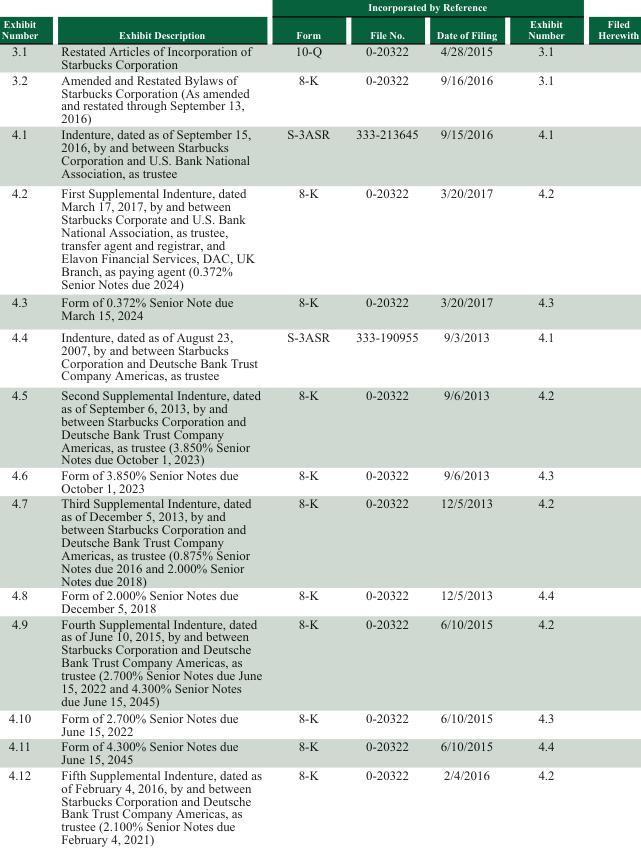table: (0, 1, 638, 846)
table column: (48, 1, 273, 846), (426, 1, 511, 846), (342, 1, 426, 846), (273, 1, 342, 846), (511, 1, 580, 846), (580, 1, 638, 846), (0, 1, 48, 846)
table column header: (0, 1, 638, 41)
table row: (0, 182, 638, 292), (0, 615, 638, 709), (0, 495, 638, 587), (0, 384, 638, 466), (0, 766, 638, 846), (0, 325, 638, 384), (0, 125, 638, 182), (0, 71, 638, 125), (0, 292, 638, 325), (0, 41, 638, 71), (0, 466, 638, 495), (0, 709, 638, 738), (0, 587, 638, 615), (0, 738, 638, 766), (0, 15, 638, 41), (0, 1, 638, 15)
table spanning cell: (48, 1, 273, 41), (273, 1, 580, 15), (580, 1, 638, 41), (0, 1, 48, 41)
